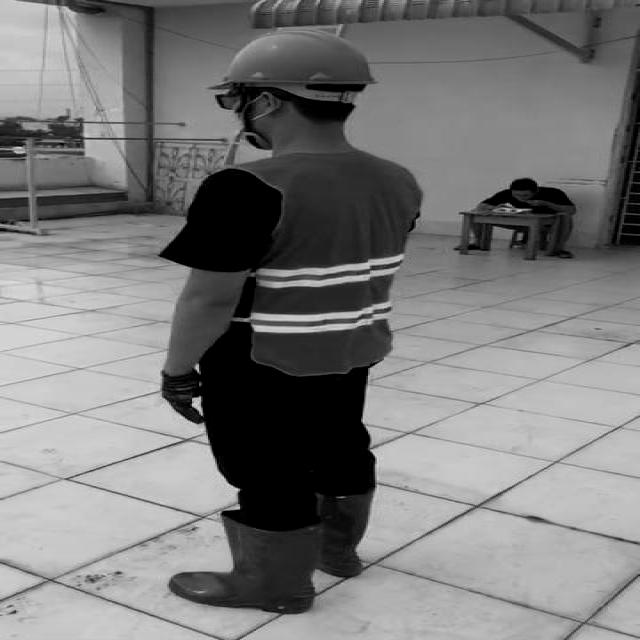boots: (170, 517, 322, 614), (265, 492, 371, 579)
hand_glove: (160, 371, 206, 425)
head_helmet: (214, 24, 378, 90)
person: (118, 16, 436, 628)
vest: (240, 149, 421, 375)
